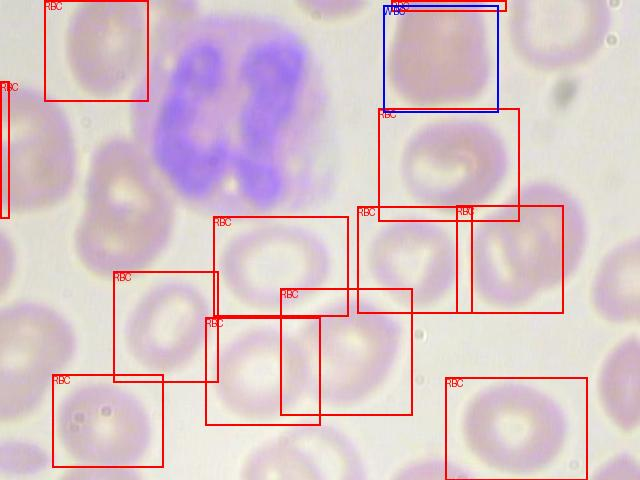RBC: (280, 288, 412, 415), (378, 108, 519, 221), (445, 377, 587, 480), (213, 216, 348, 316), (205, 317, 320, 425), (357, 206, 472, 313), (113, 271, 218, 382), (456, 205, 563, 313), (44, 0, 148, 101), (52, 374, 163, 467), (391, 0, 506, 11), (0, 81, 9, 218)
WBC: (383, 5, 498, 112)
